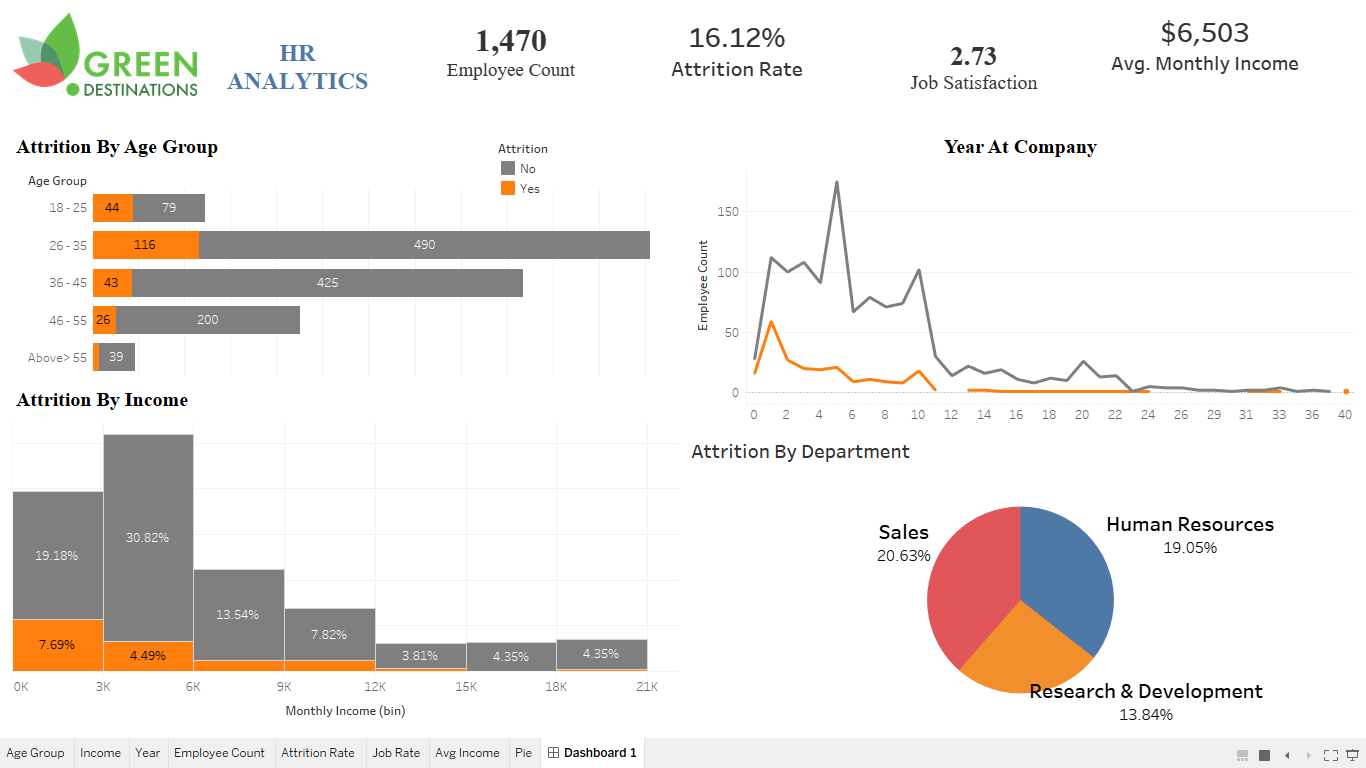

The page's visual inventory and layout, read from the dashboard file:
{"tool":"tableau","page":{"name":"Dashboard 1","canvas":[1000,1000],"units":"permille","ordinal":0},"visuals":[{"type":"image","param":"Image/greendestination+logo.png","box":[6.9,13.5,141.1,160.4]},{"type":"text","box":[148,13.5,141.1,160.4]},{"type":"worksheet","title":"Employee Count","mark":"Text","box":[289.1,13.5,170.6,160.4]},{"type":"worksheet","title":"Attrition Rate","mark":"Automatic","box":[459.7,13.5,158.4,160.4]},{"type":"worksheet","title":"Job Rate","mark":"Automatic","box":[618.1,13.5,187.4,160.4]},{"type":"worksheet","title":"Avg Income","mark":"Automatic","box":[805.6,13.5,187.5,160.4]},{"type":"worksheet","title":"Age Group","mark":"Bar","cols":["EmployeeCount"],"box":[6.9,174,492.6,427.4]},{"type":"worksheet","title":"Year","mark":"Line","rows":["EmployeeCount"],"cols":["YearsAtCompany"],"box":[500,174,493.1,406.3]},{"type":"legend","title":"Age Group","param":"[federated.15a9mon0lo3ufc1cmnzgo1r7wch1].[none:Attrition:nk]","box":[364.5,189.2,121.2,98]},{"type":"worksheet","title":"Pie","mark":"Pie","box":[500,580.2,493.1,406.3]},{"type":"worksheet","title":"Income","mark":"Automatic","rows":["EmployeeCount"],"cols":["Monthly Income (bin)"],"box":[6.9,601.4,492.6,385.1]}]}

Visuals, with their boxes on the dashboard's canvas, which has no fixed pixel size, in thousandths of its width and height (x1, y1, x2, y2). These are canvas units, not pixel positions in the 1366x768 screenshot, which may show the page scaled, cropped or inside an application window:
image: <box>7,14,148,174</box>
text: <box>148,14,289,174</box>
"Employee Count" worksheet (Text marks): <box>289,14,460,174</box>
"Attrition Rate" worksheet: <box>460,14,618,174</box>
"Job Rate" worksheet: <box>618,14,806,174</box>
"Avg Income" worksheet: <box>806,14,993,174</box>
"Age Group" worksheet (Bar marks): <box>7,174,500,601</box>
"Year" worksheet (Line marks): <box>500,174,993,580</box>
"Age Group" legend: <box>364,189,486,287</box>
"Pie" worksheet (Pie marks): <box>500,580,993,986</box>
"Income" worksheet: <box>7,601,500,986</box>
